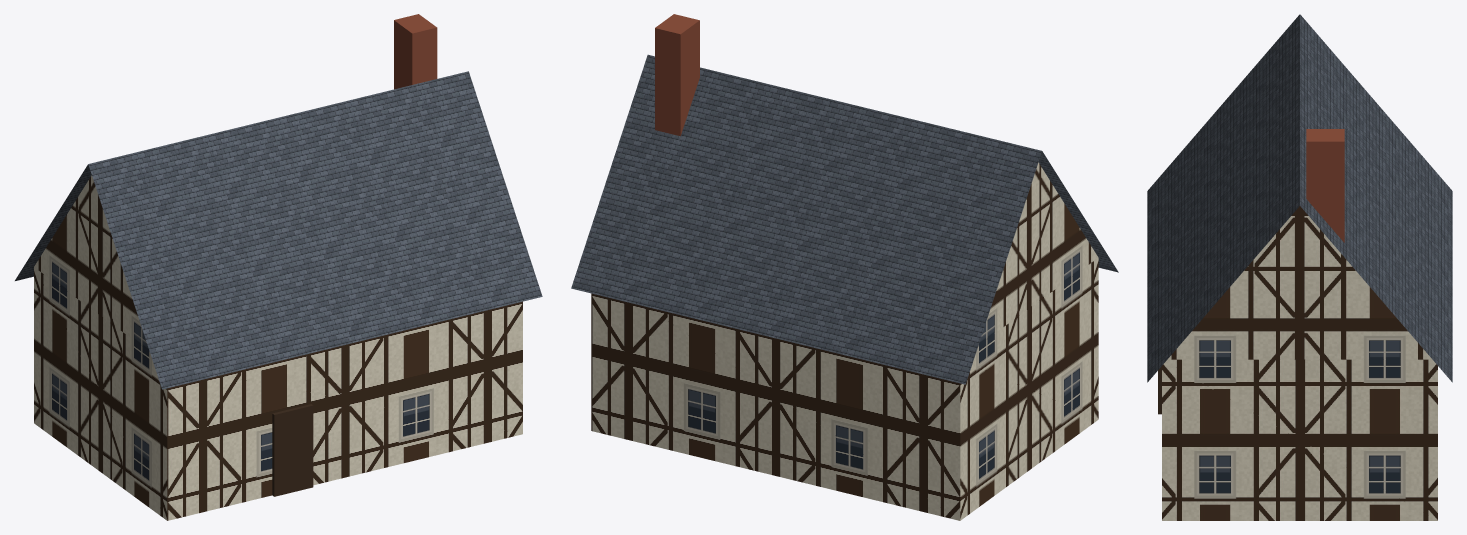
File: casa_normanda.glb
3 views of the same model, side by side, from view 1: azimuth 30°, elevation 25°; view 2: azimuth 150°, elevation 25°; view 3: azimuth 270°, elevation 25° (orthographic). The views are drawn at different scales.
Parts seen in each view (by area): view 1: Casa; view 2: Casa; view 3: Casa.
Boxes of the visible parts, x1,y1,x2,y2 form: Casa: (15, 14, 542, 520); Casa: (571, 14, 1118, 520); Casa: (1147, 14, 1452, 520).
Bounding box in the file's own units: 10.7 × 9.66 × 7.2.
Materials: 4 (2 with a texture image).
